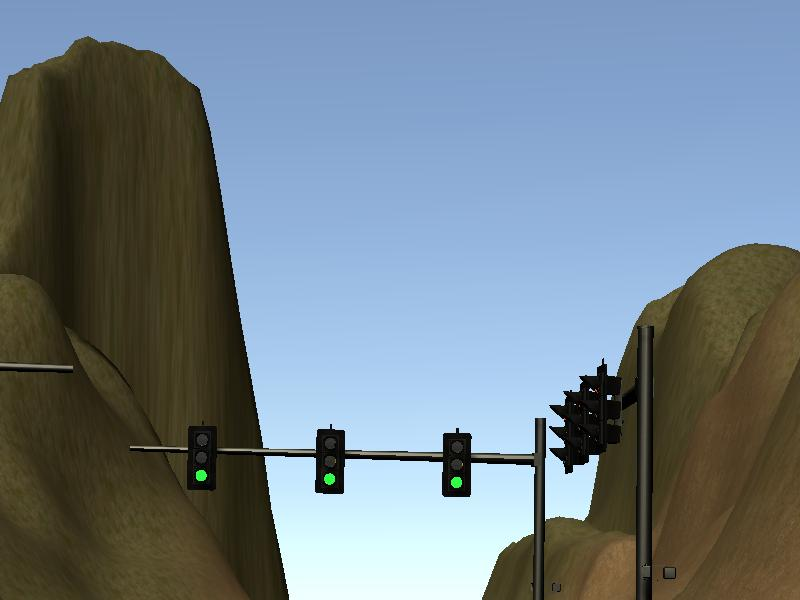green: (185, 424, 218, 493), (314, 427, 347, 496), (440, 430, 473, 499)
